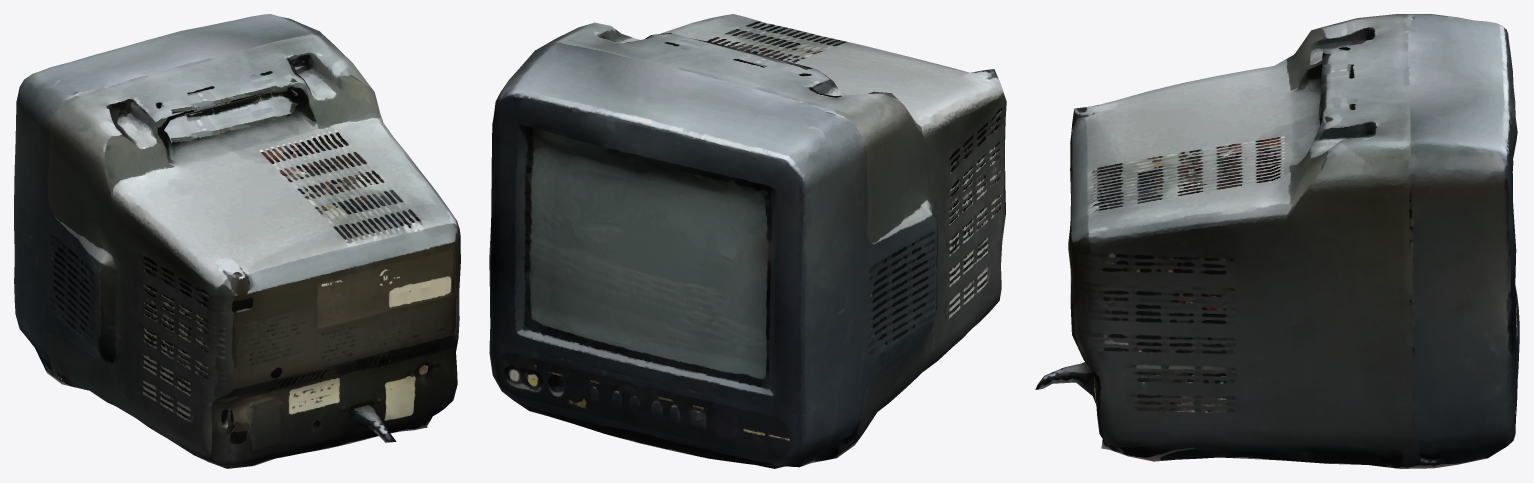
The model's file is PhillipsTV.fbx.
3 views of the same model, side by side, from view 1: azimuth 30°, elevation 25°; view 2: azimuth 150°, elevation 25°; view 3: azimuth 270°, elevation 25° (orthographic). The views are drawn at different scales.
Visible parts, largest first — view 1: PhillipsTV; view 2: PhillipsTV; view 3: PhillipsTV.
Boxes of the visible parts, left/top/right/bottom form: PhillipsTV: left=14, top=14, right=460, bottom=468; PhillipsTV: left=489, top=14, right=1006, bottom=468; PhillipsTV: left=1035, top=14, right=1519, bottom=468.
Size of the model in its own units: 1.91 by 1.77 by 2.42.
Materials: 1 (1 with a texture image).
